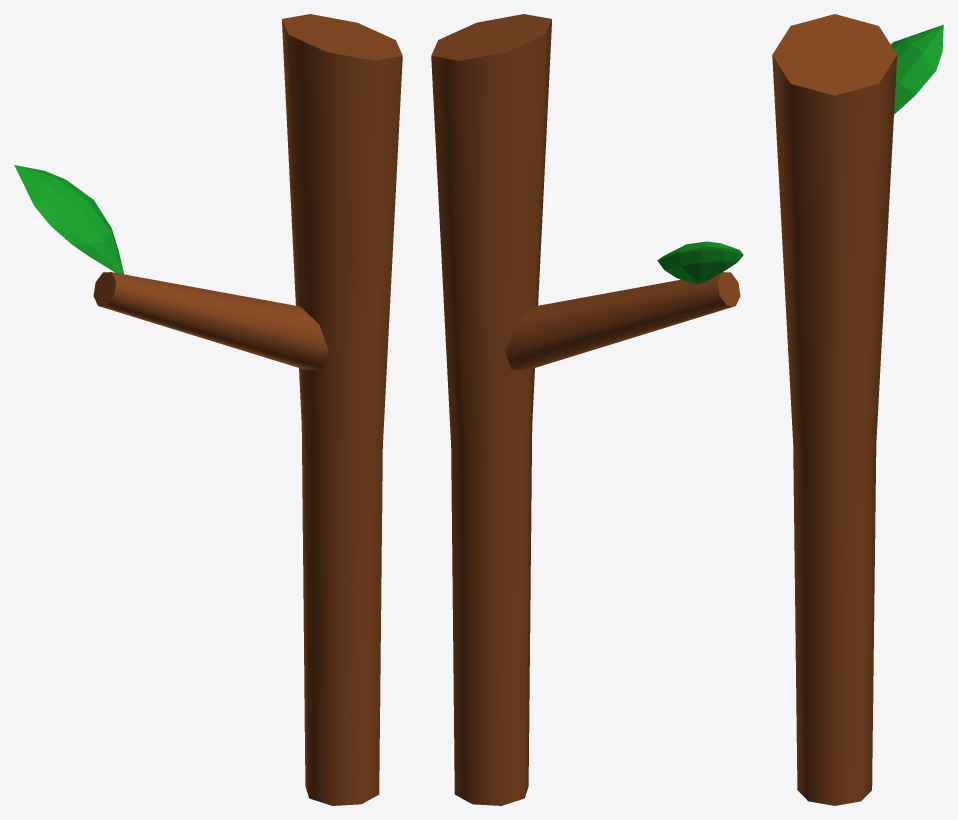
Rendered from 나무 몽둥이.fbx.
3 views of the same model, side by side, from view 1: azimuth 30°, elevation 25°; view 2: azimuth 150°, elevation 25°; view 3: azimuth 270°, elevation 25° (orthographic). The views are drawn at different scales.
Parts seen in each view (by area): view 1: Base; view 2: Base; view 3: Base.
Boxes of the visible parts, <box> form: Base: <box>14,14,402,805</box>; Base: <box>431,14,743,805</box>; Base: <box>772,14,943,805</box>.
Bounding box in the file's own units: 174 × 386 × 79.81.
1 material, 1 textured.
